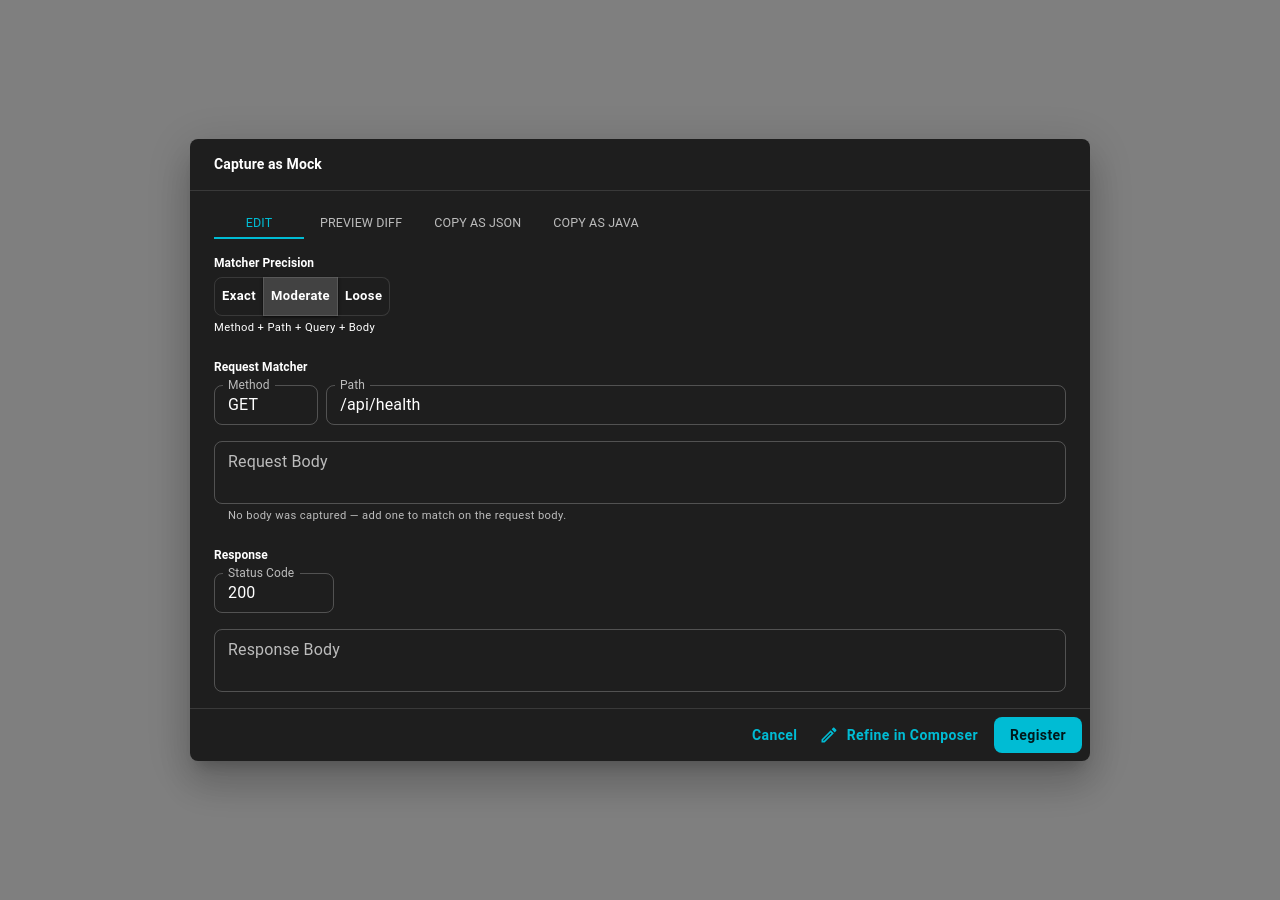
Test: CaptureAsMockDialog › hides the Request Body matcher only in loose precision
This screenshot has width=1280, height=900.
Expected: the text box labelled "Request Body" is shown, [228,449,1052,495]
Click the button with aria-label "Loose precision": (364, 296) [337,277,390,316]
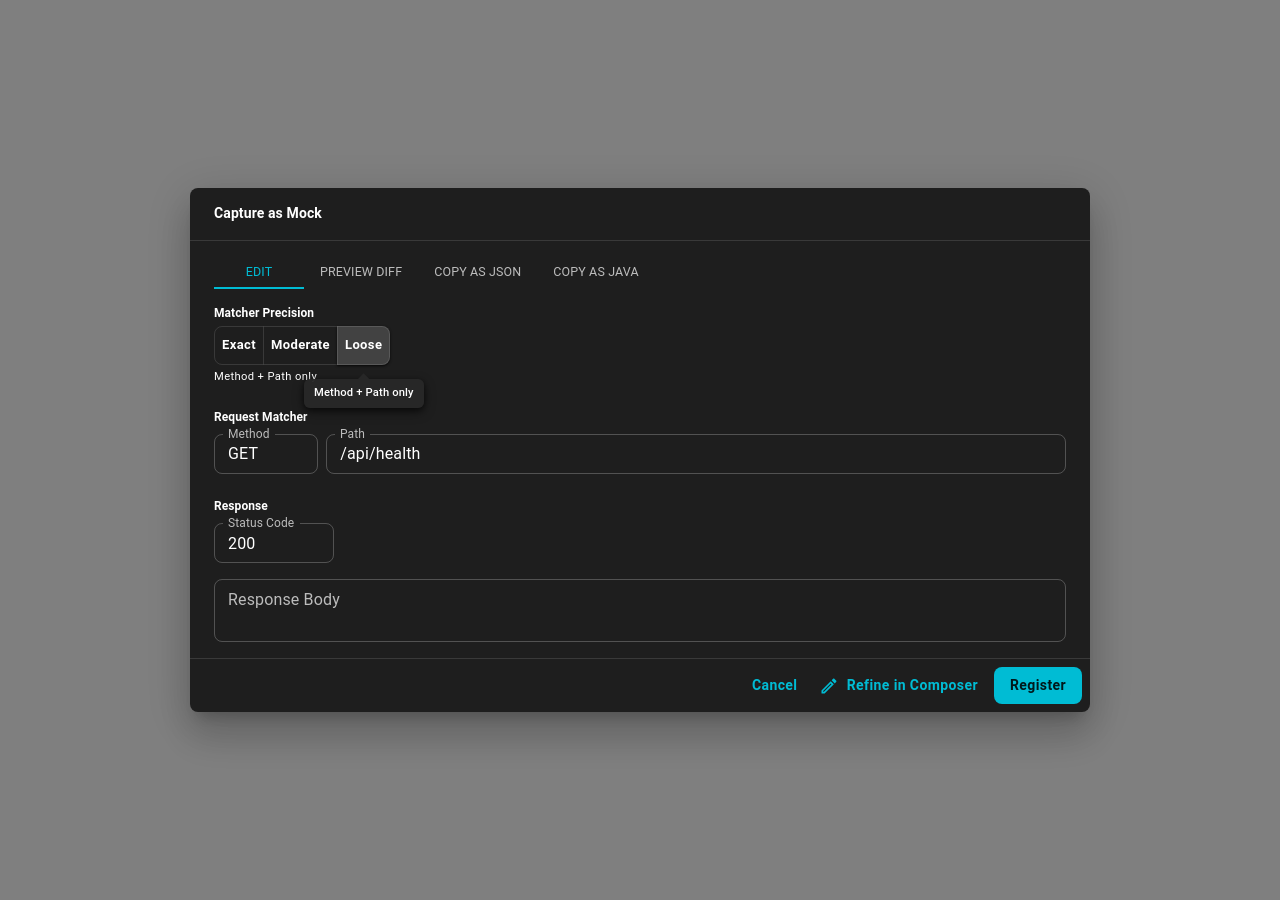
Expected: the label labelled "Request Body" is gone
